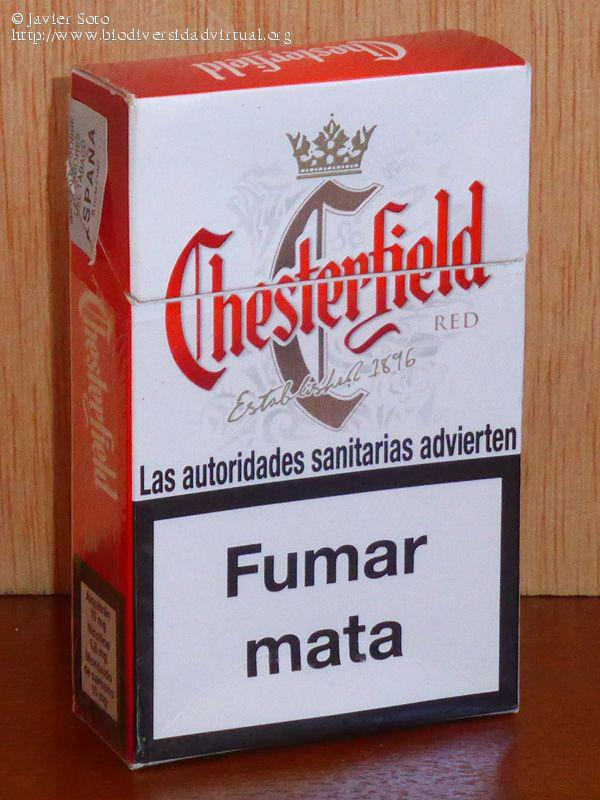chesterfield_red: (130, 78, 525, 709)
